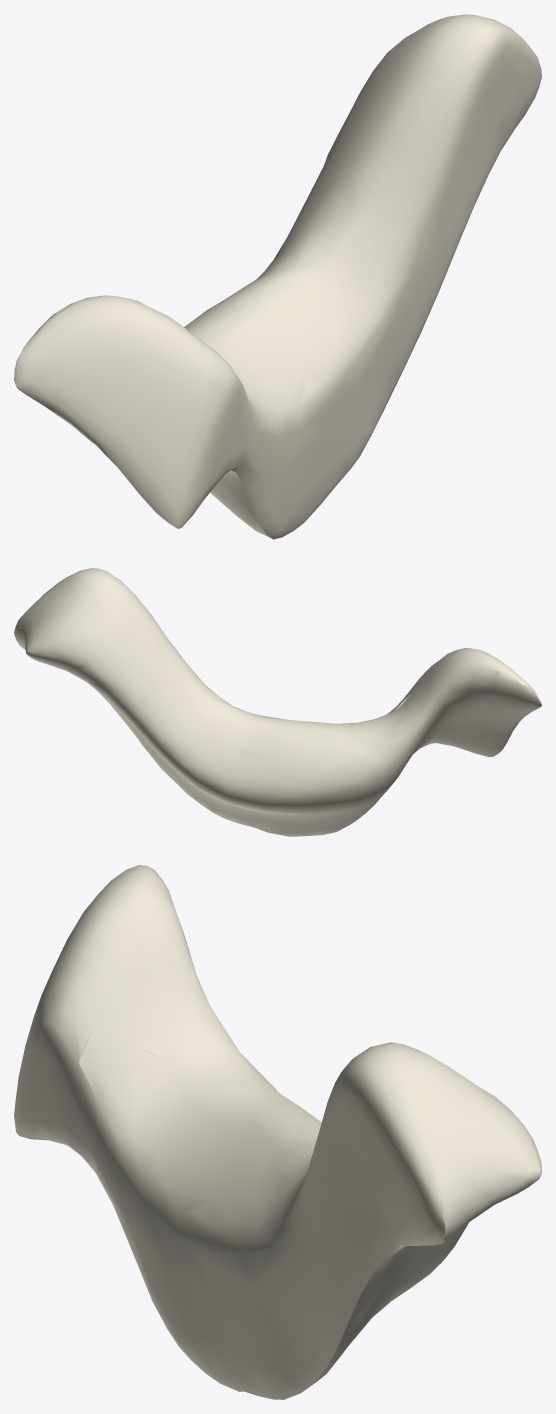
The model's file is fma296531_mm1561m.glb.
3 views of the same model, one above another, from view 1: azimuth 30°, elevation 25°; view 2: azimuth 150°, elevation 25°; view 3: azimuth 270°, elevation 25° (orthographic). The views are drawn at different scales.
Visible parts, largest first — view 1: FMA296531_MM1561M; view 2: FMA296531_MM1561M; view 3: FMA296531_MM1561M.
Part boxes in pixels (x1,y1,x2,y2): FMA296531_MM1561M: (14, 14, 541, 539); FMA296531_MM1561M: (14, 568, 541, 836); FMA296531_MM1561M: (14, 865, 541, 1399).
Bounding box in the file's own units: 0.0151 × 0.00859 × 0.00878.
